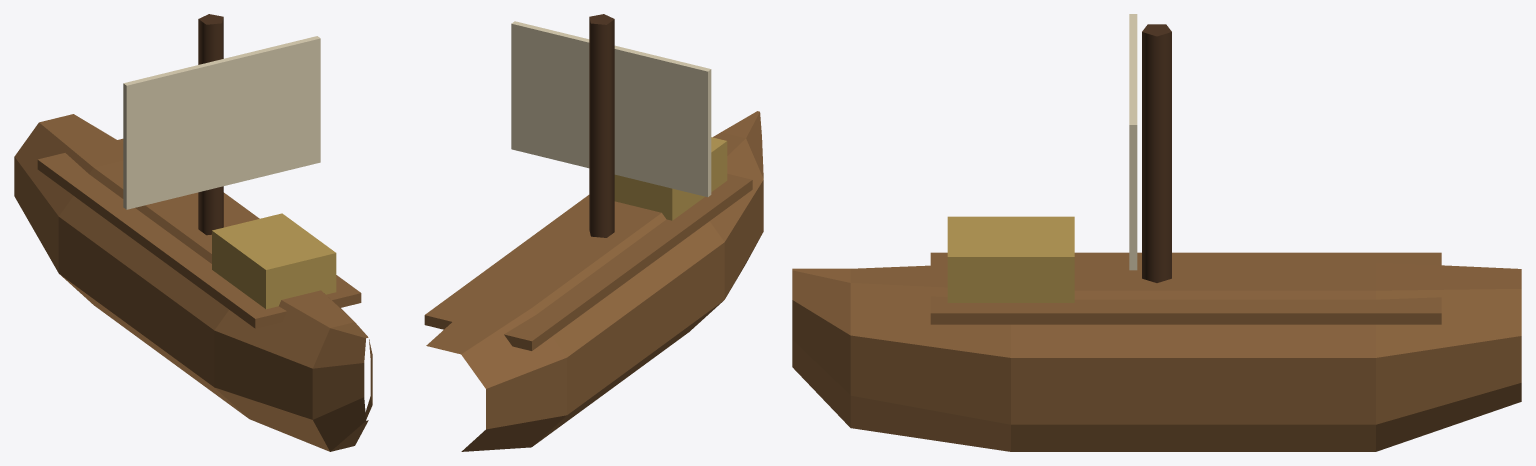
Rendered from veh_naval_fishing_a01.glb.
3 renders of one model, left to right at view 1: azimuth 30°, elevation 25°; view 2: azimuth 150°, elevation 25°; view 3: azimuth 270°, elevation 25°, orthographic. The views are drawn at different scales.
Visible parts, largest first — view 1: body, sail_0; view 2: body, sail_0; view 3: body, sail_0.
Boxes of the visible parts, bbox=[...] form: body: bbox=[14, 14, 372, 451]; sail_0: bbox=[123, 36, 320, 209]; body: bbox=[424, 14, 763, 451]; sail_0: bbox=[511, 21, 711, 197]; body: bbox=[792, 24, 1521, 451]; sail_0: bbox=[1129, 14, 1137, 270].
Size of what is drawn, in the model's own units: 1.66 by 2.84 by 4.6.
